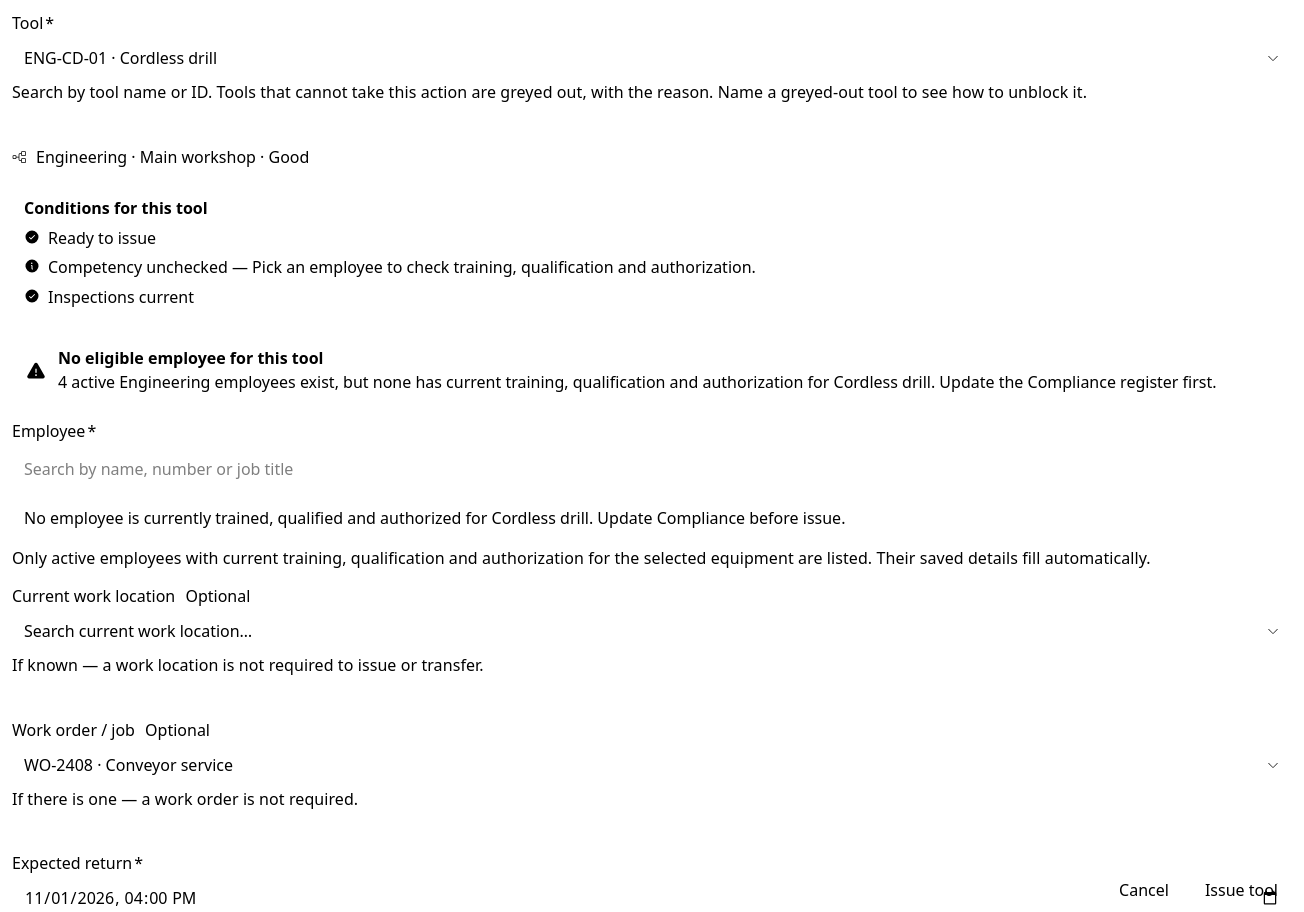
Test case: Tools interaction controls › names the person when they are not eligible for the picked tool
Type "Alex Morgan · EMP-014" into the dropdown labelled "Employee". click: [652, 468]
box: [12, 448, 1292, 488]
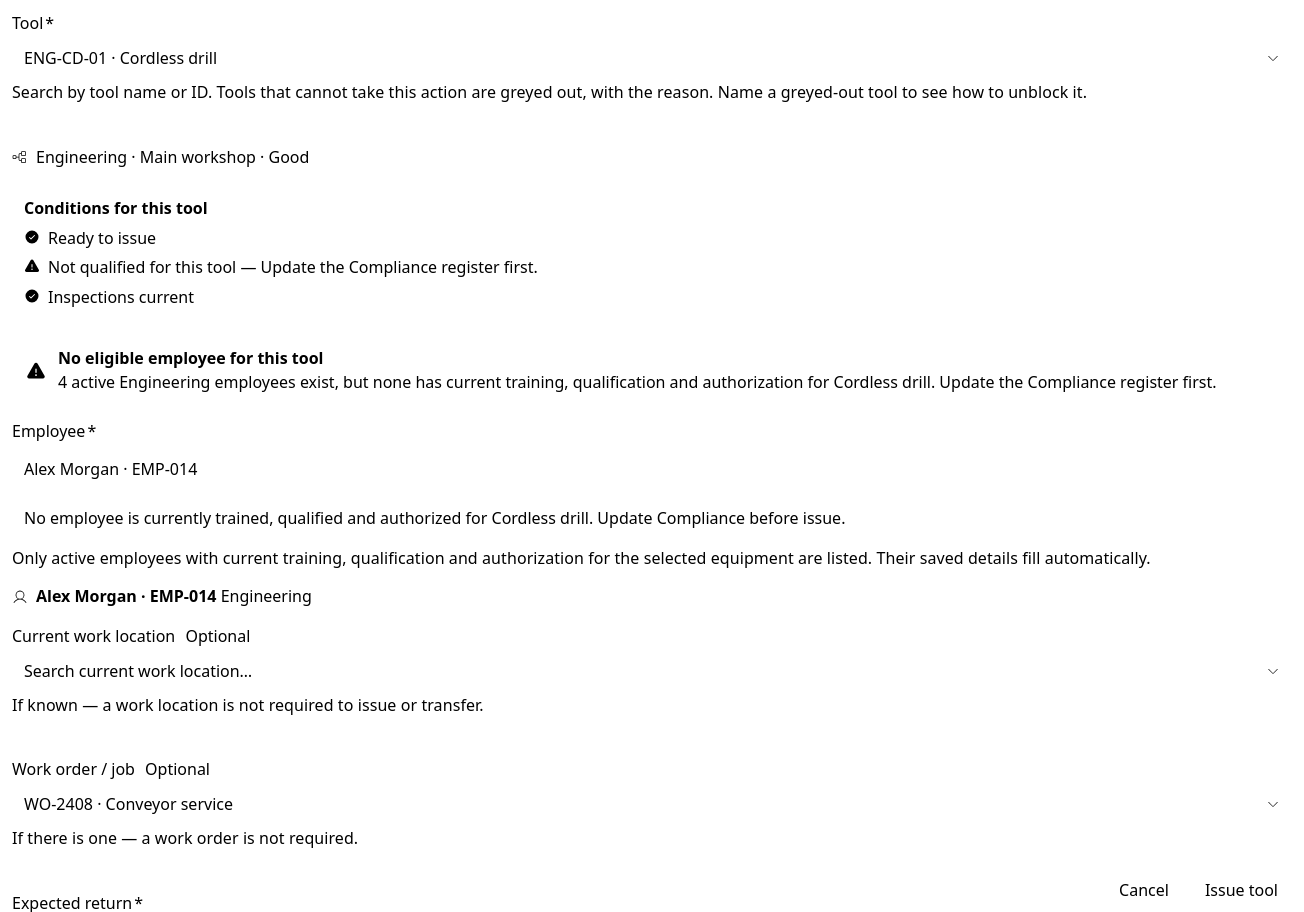
Click the button "Issue tool". click: [1241, 890]
box: [1191, 872, 1292, 908]
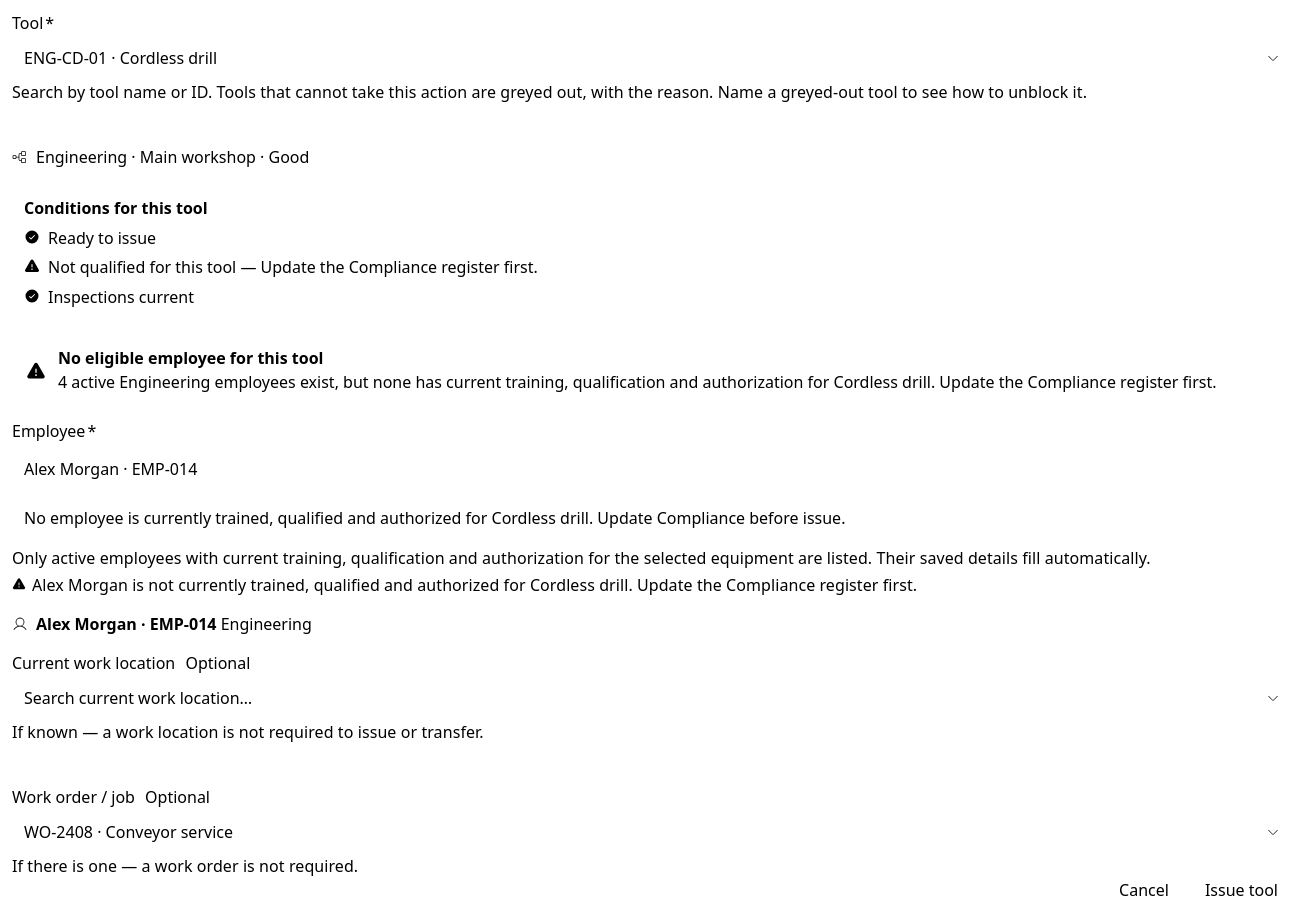
Expected: the 2nd message shows "Alex Morgan is not currently trained, qualified and authorized for Cordless drill", [32, 574, 917, 596]
